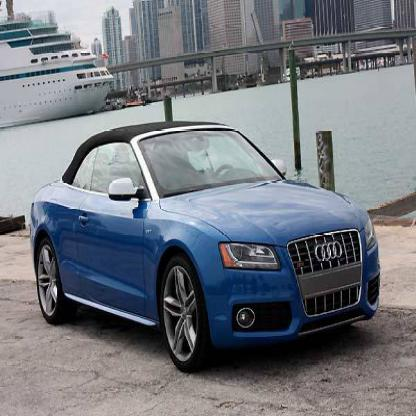Vehicle: (28, 121, 382, 375)
